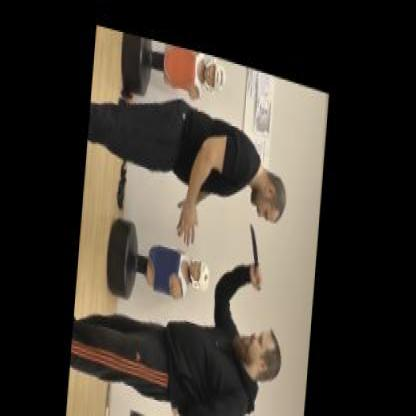knife: (246, 203, 268, 277)
